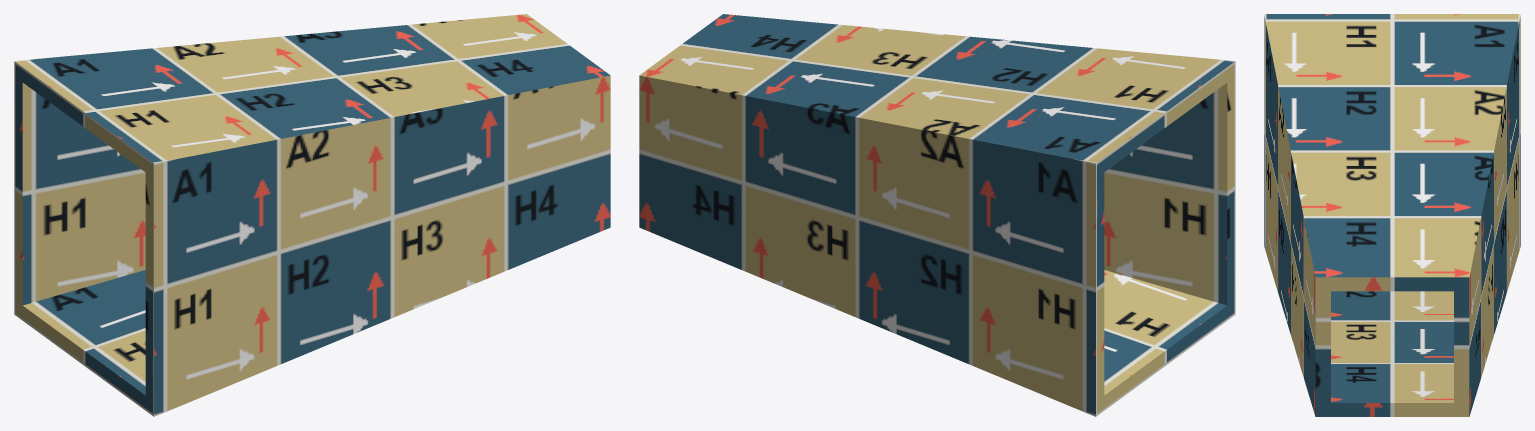
File: DUCT_Reducer.fbx
3 renders of one model, left to right at view 1: azimuth 30°, elevation 25°; view 2: azimuth 150°, elevation 25°; view 3: azimuth 270°, elevation 25°, orthographic. The views are drawn at different scales.
Parts seen in each view (by area): view 1: DUCT_Reducer; view 2: DUCT_Reducer; view 3: DUCT_Reducer.
Part boxes in pixels (x1,y1,x2,y2): DUCT_Reducer: (14, 14, 610, 416); DUCT_Reducer: (639, 14, 1235, 416); DUCT_Reducer: (1264, 14, 1520, 416).
Bounding box in the file's own units: 100 × 50 × 50.
Materials: 1 (1 with a texture image).
